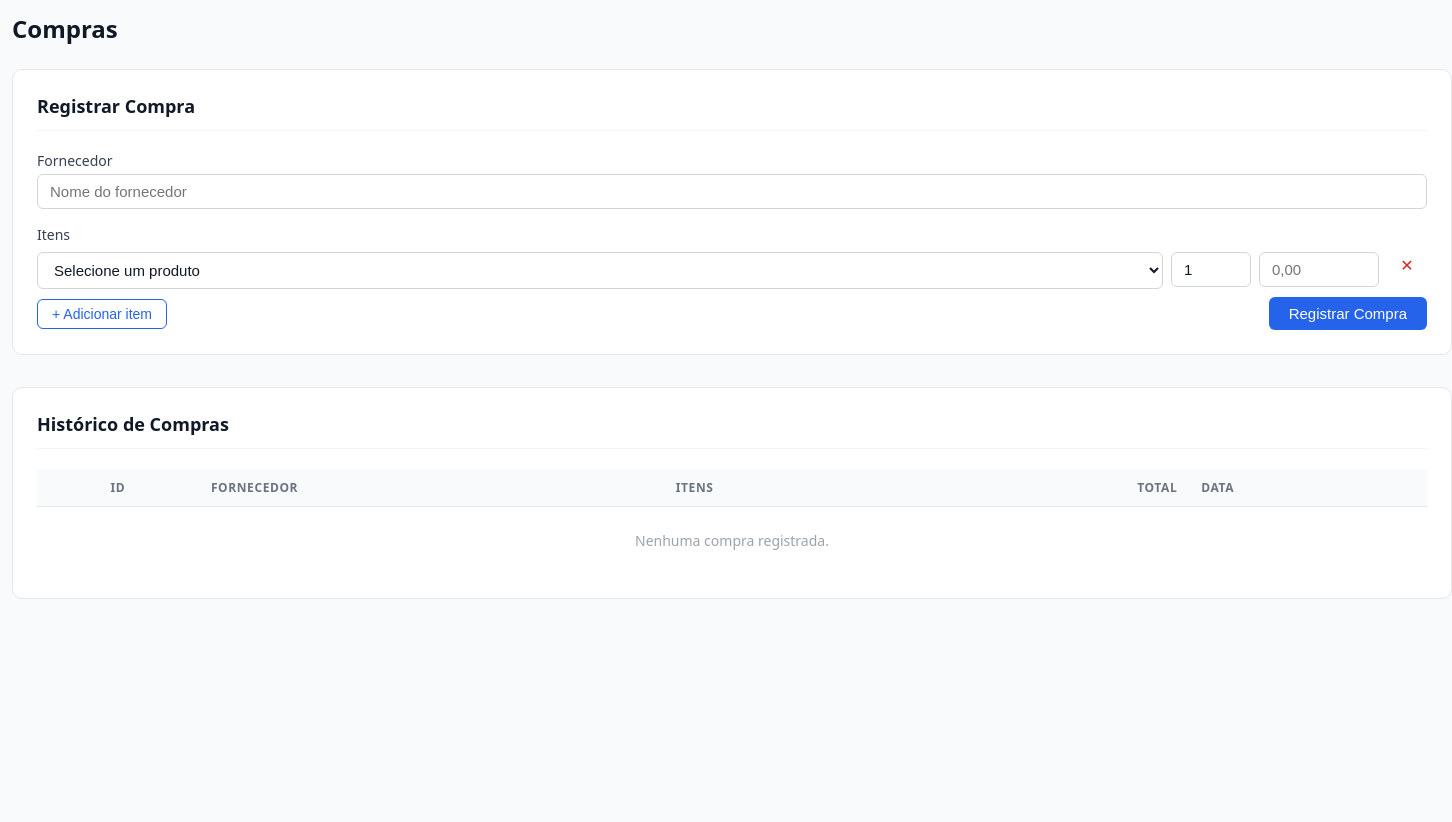
Test: ComprasView › valida fornecedor com menos de 2 caracteres antes de submeter
Type "A" into the field with test id "input-fornecedor" at (732, 192), box x1=37 y1=174 x2=1427 y2=209
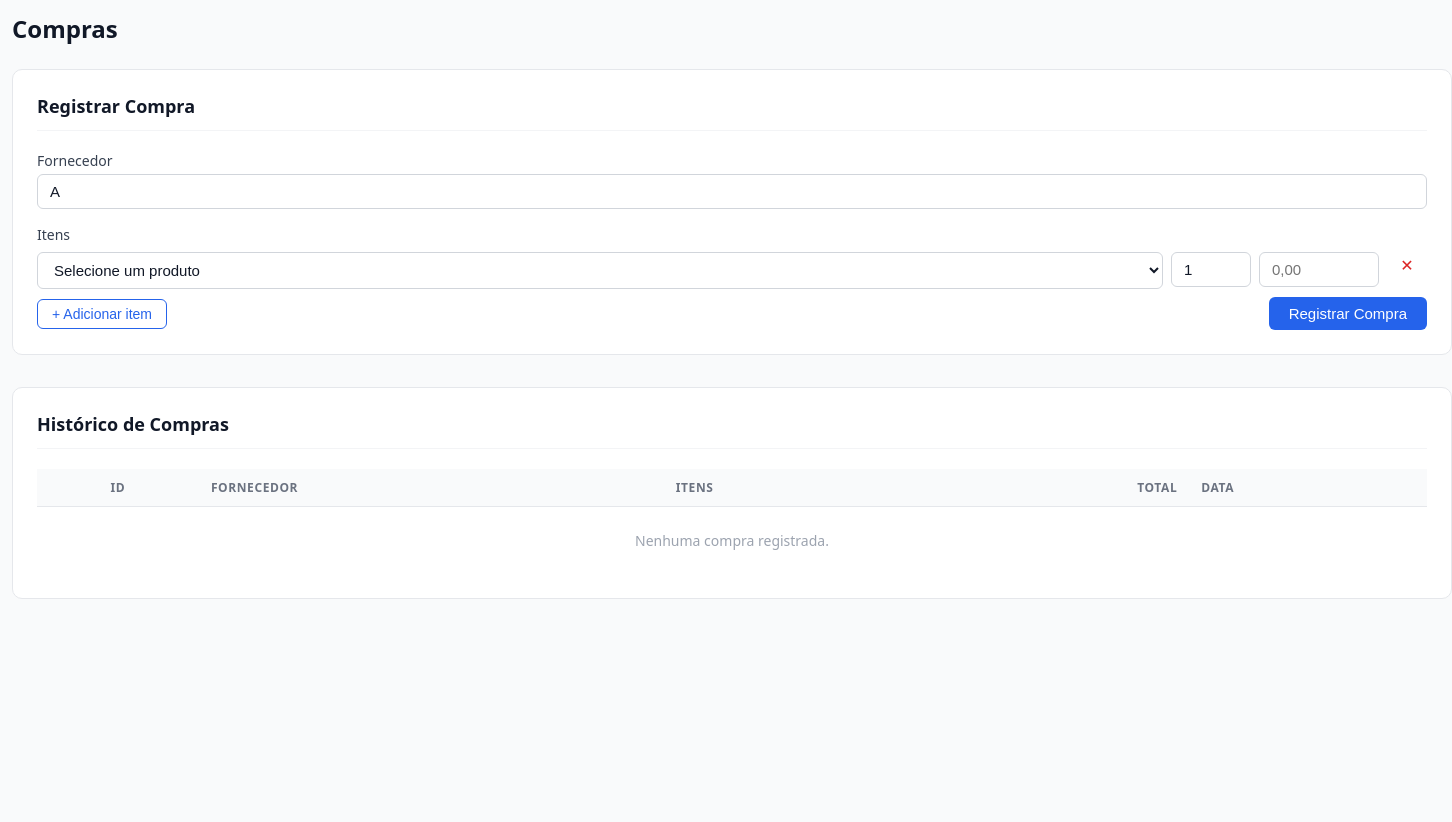
Click the button with test id "btn-registrar" at (1348, 314), box x1=1269 y1=297 x2=1427 y2=330
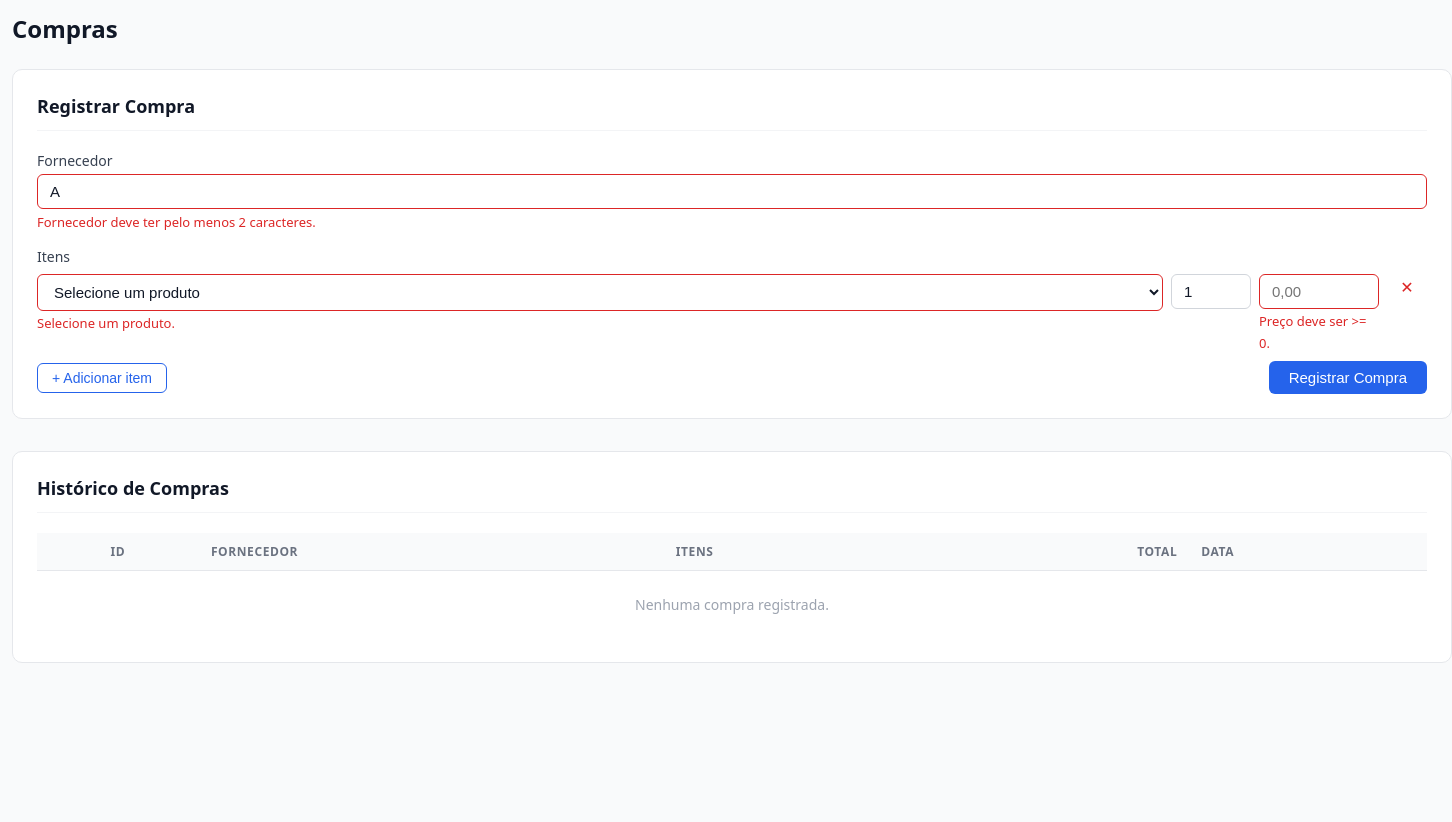
Check: the text "2 caracteres" is shown, box x1=37 y1=213 x2=316 y2=231
